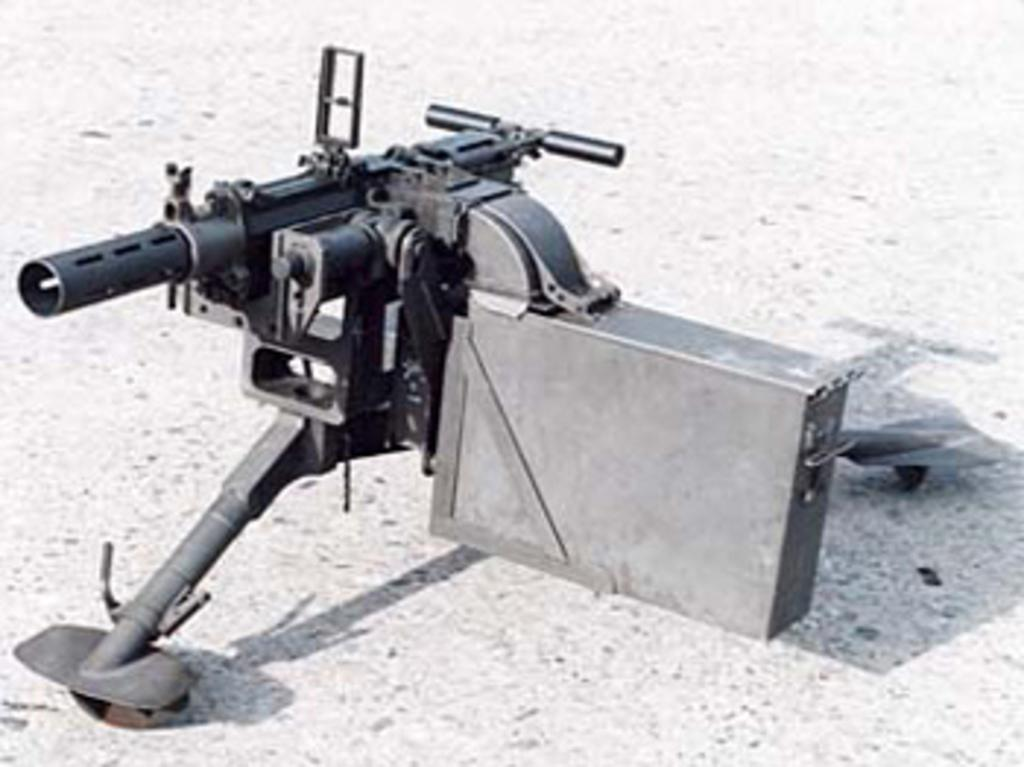Rifle: (102, 79, 647, 451)
